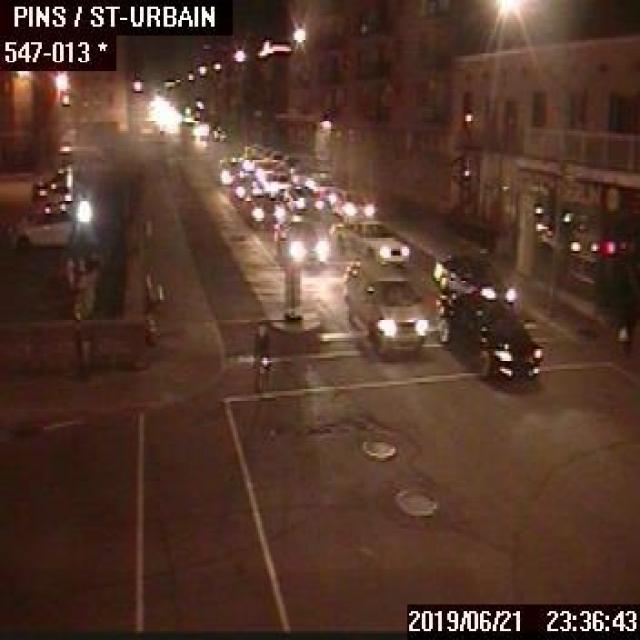cyclist: (248, 322, 272, 392)
vehicle: (433, 291, 542, 391), (345, 259, 428, 350), (434, 249, 515, 310), (9, 204, 96, 246), (332, 215, 408, 263), (273, 216, 322, 263), (244, 192, 284, 228), (330, 188, 376, 219), (304, 170, 345, 200), (217, 154, 248, 182), (262, 170, 289, 197), (230, 172, 260, 196), (278, 184, 305, 209), (251, 159, 273, 181), (189, 118, 209, 140), (289, 163, 307, 184)
